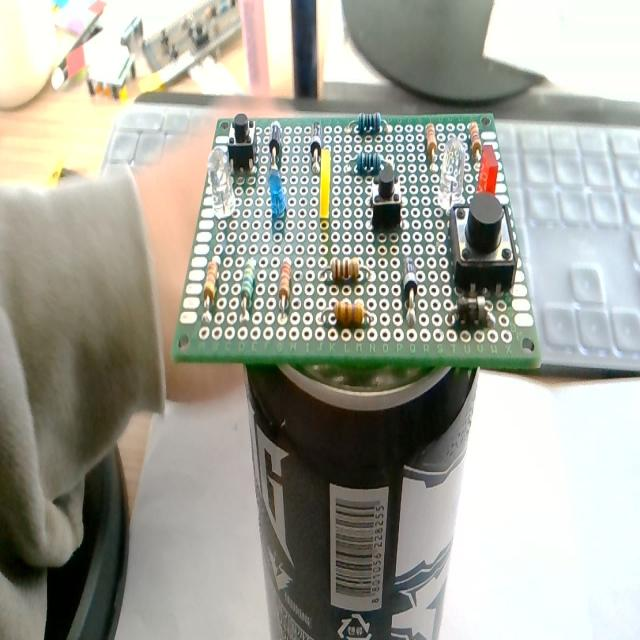diode: (452, 295, 494, 329), (402, 256, 418, 330), (267, 117, 283, 171), (308, 118, 323, 172)
led: (448, 193, 516, 298), (207, 143, 237, 224), (436, 136, 467, 214), (266, 168, 290, 224), (318, 147, 333, 229), (477, 144, 499, 196)
resistor: (318, 300, 374, 327), (327, 256, 372, 285), (201, 258, 218, 320), (239, 259, 256, 319), (346, 113, 389, 135), (203, 259, 219, 304), (278, 258, 292, 308), (357, 149, 382, 175), (468, 120, 482, 160), (425, 123, 437, 161)
switch: (370, 162, 402, 229), (226, 113, 257, 175)
